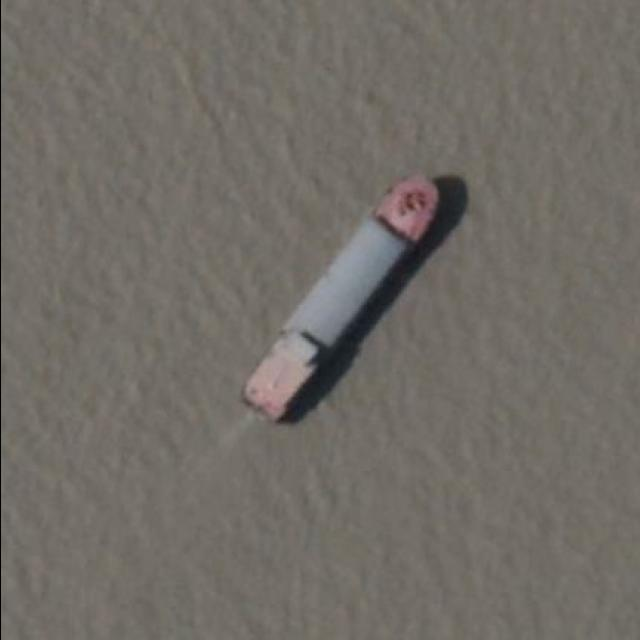ship: (232, 166, 444, 426)
